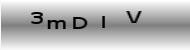3: (30, 11, 44, 25)
D: (71, 16, 88, 30)
V: (124, 8, 141, 24)
l: (100, 14, 105, 29)
m: (45, 19, 67, 30)
